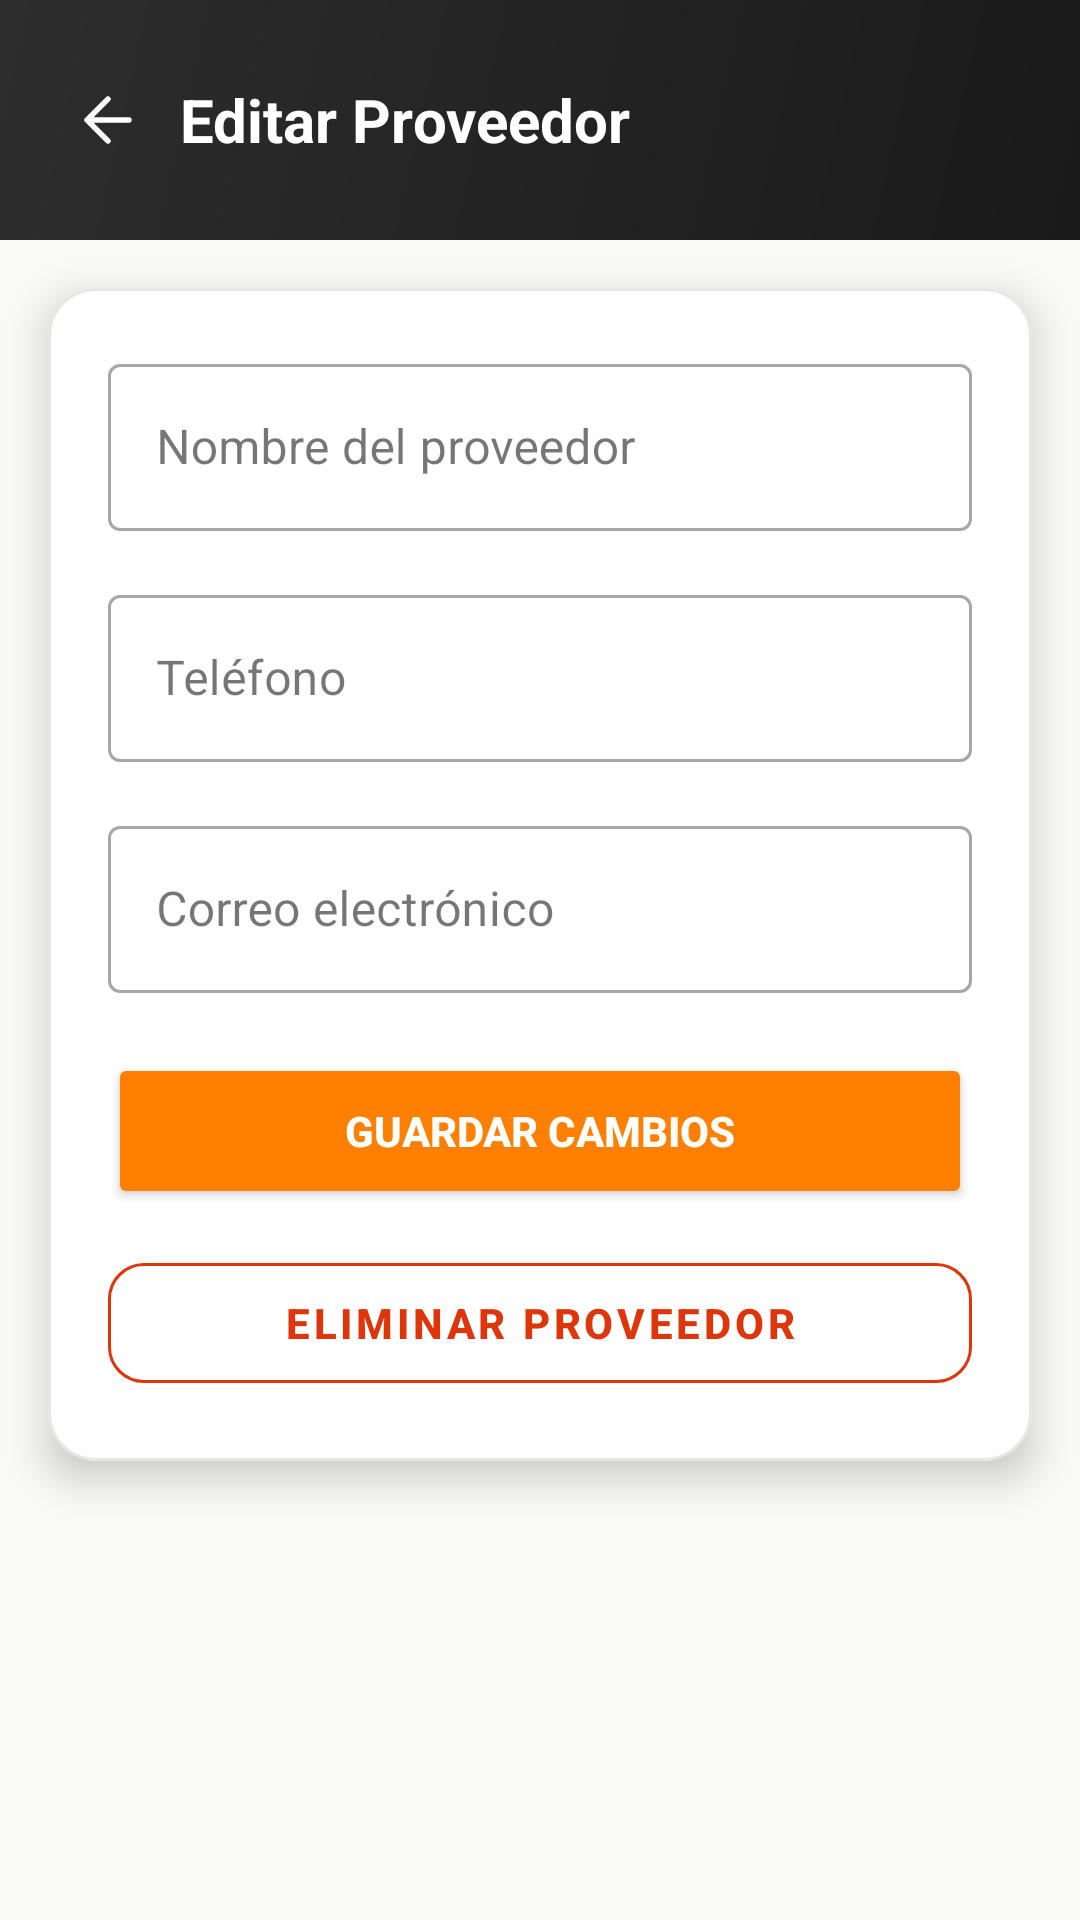

Icon bounding boxes for this 1080 × 1920 phone screenshot, format box=[x1, y1, x2, y2]:
Volver: box=[84, 96, 132, 144]
